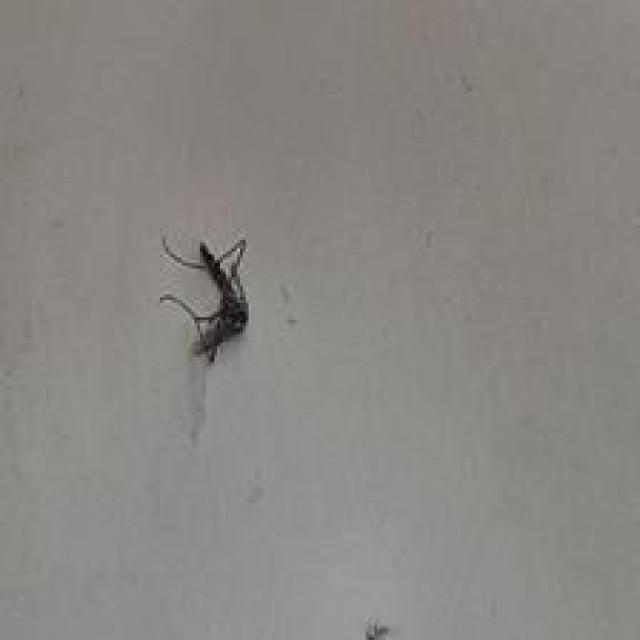Aedes albopictus: (157, 234, 252, 366)
